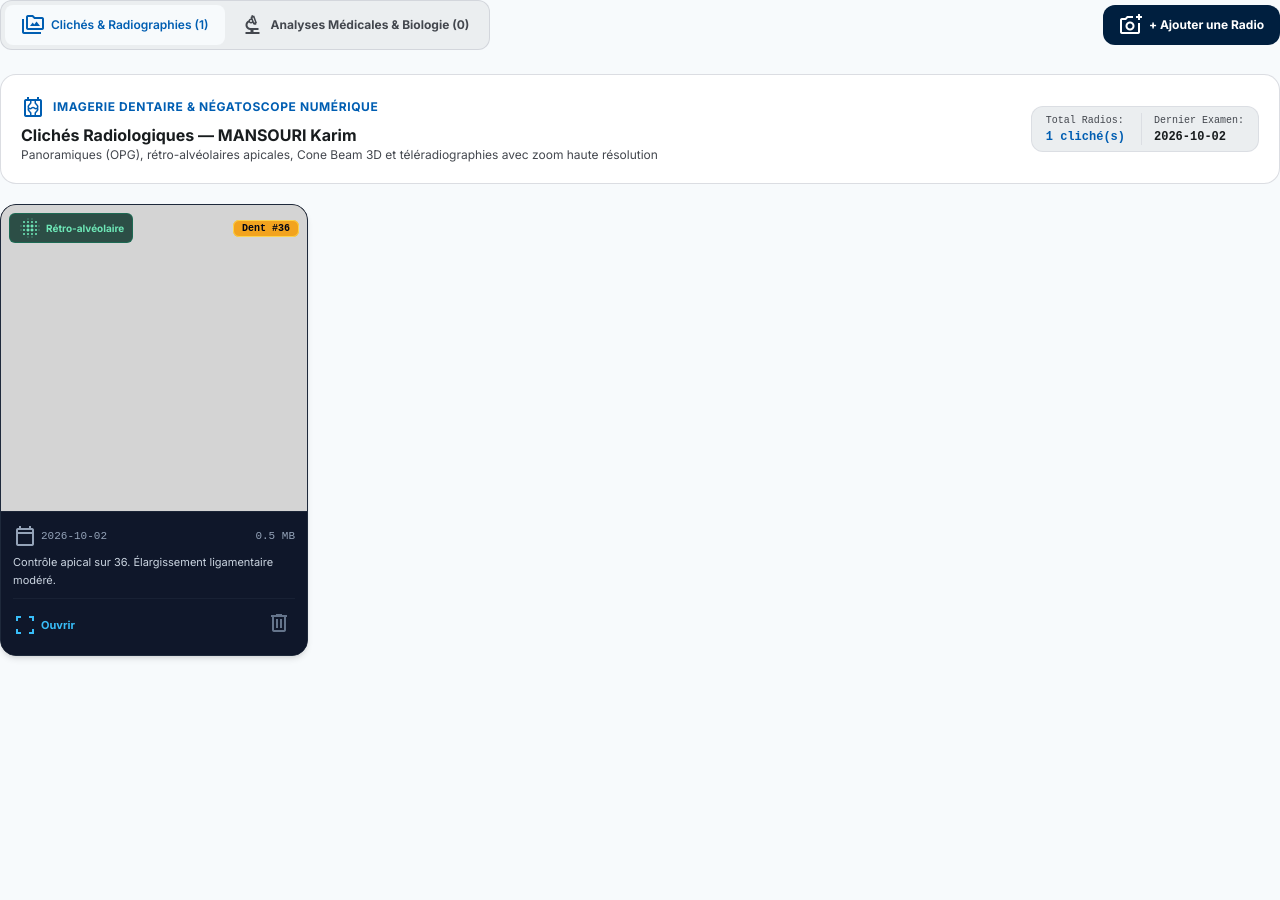
Test: Prompt 8: Devis Lifecycle [En Soin] Conversion & Dental Radiography Lightbox System › 3. Radiography Gallery & High-Resolution Lightbox Viewer › supports Zoom In, Zoom Out, and Reset Zoom in Lightbox
The width and height of the screenshot is (1280, 900).
Click the element showing "Rétro-alvéolaire Dent #36" at (154, 358), box 1,205 -> 307,511
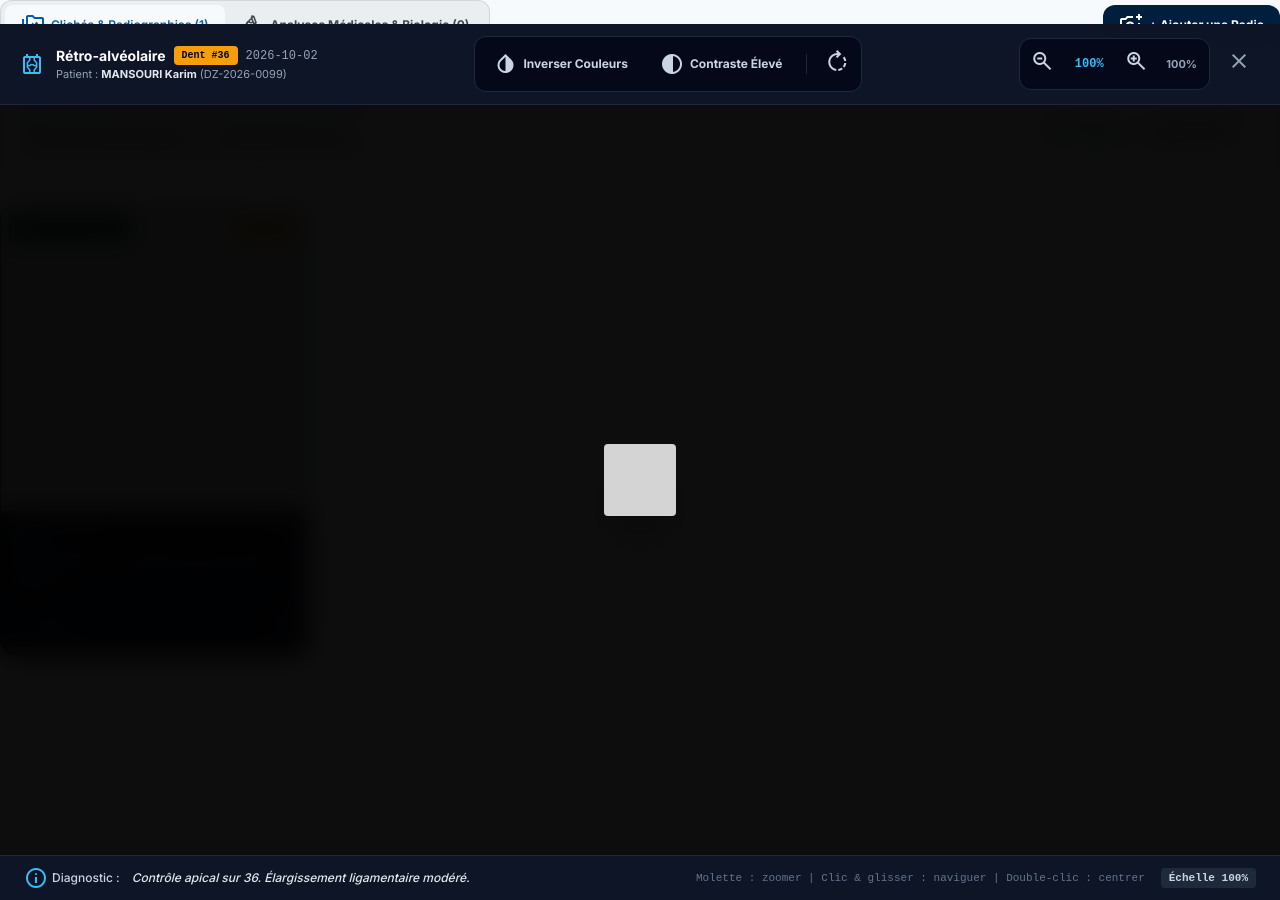
Now the text with test id "zoom-level-display" reads "100%", box 1075,57 -> 1104,71
 Zoom In
Click the button with test id "btn-zoom-in" at (1136, 64), box 1118,43 -> 1154,85
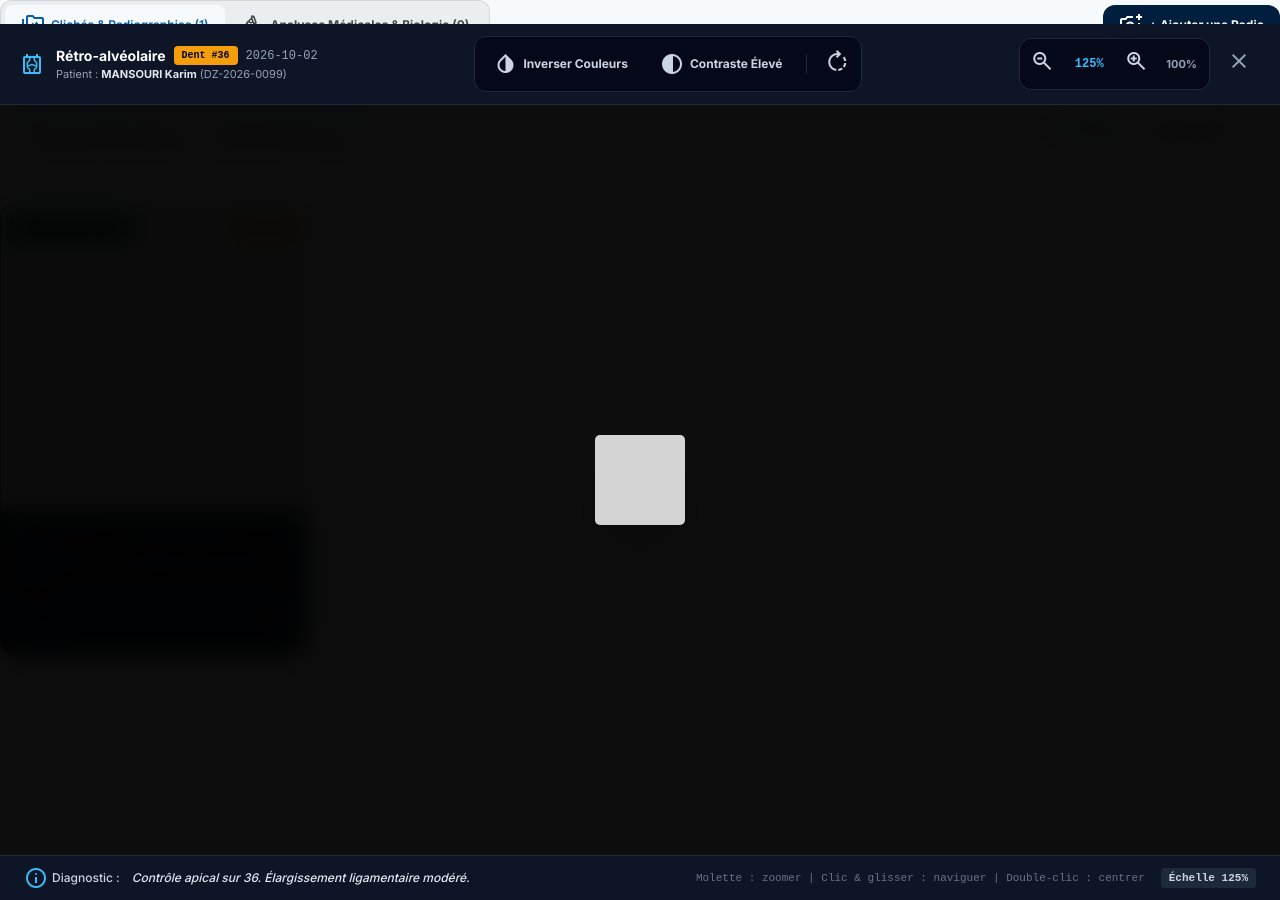
Now the text with test id "zoom-level-display" reads "125%", box 1075,57 -> 1104,71
Click the button with test id "btn-zoom-in" at (1136, 64), box 1118,43 -> 1154,85
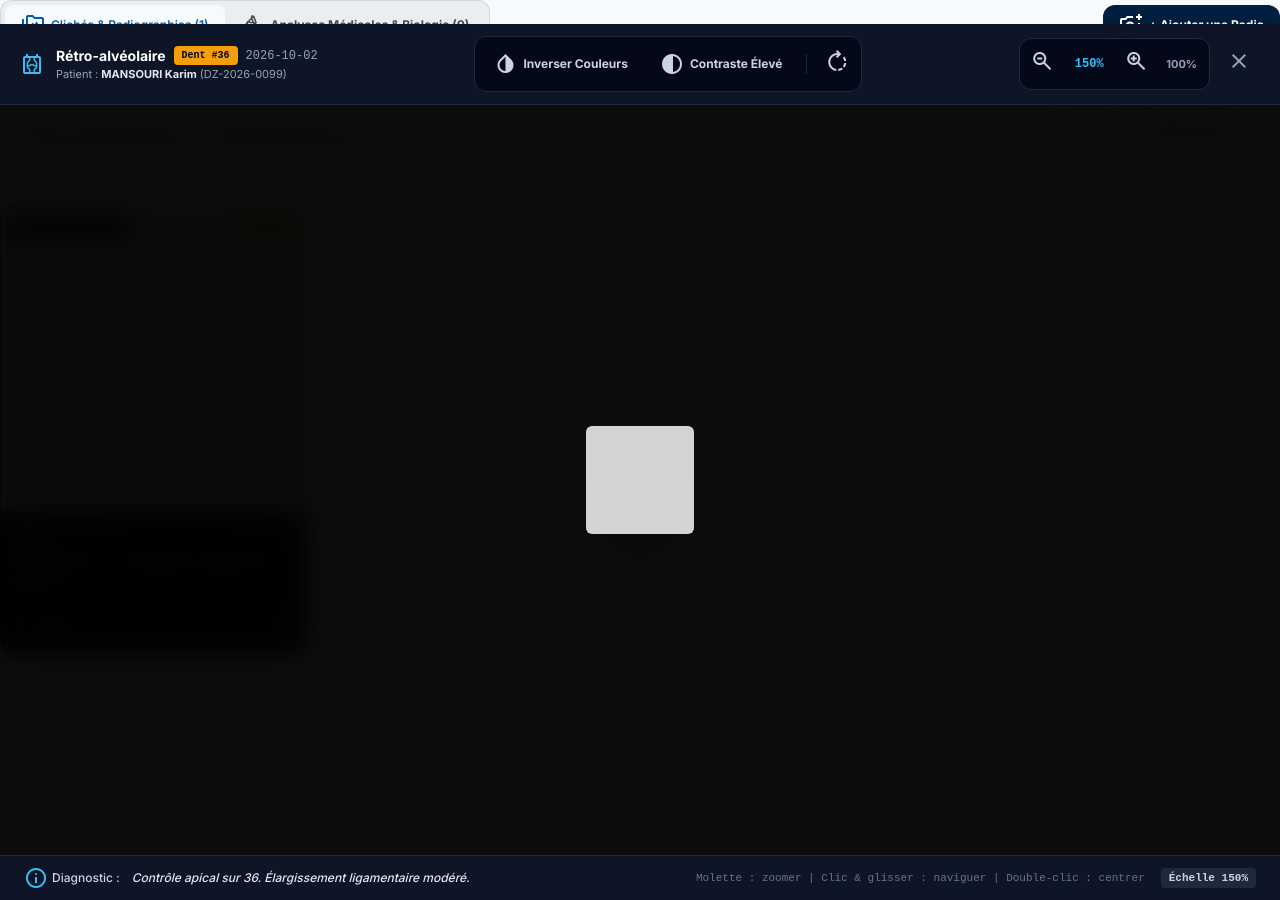
Now the text with test id "zoom-level-display" reads "150%", box 1075,57 -> 1104,71
Zoom Out
Click the button with test id "btn-zoom-out" at (1042, 64), box 1024,43 -> 1060,85
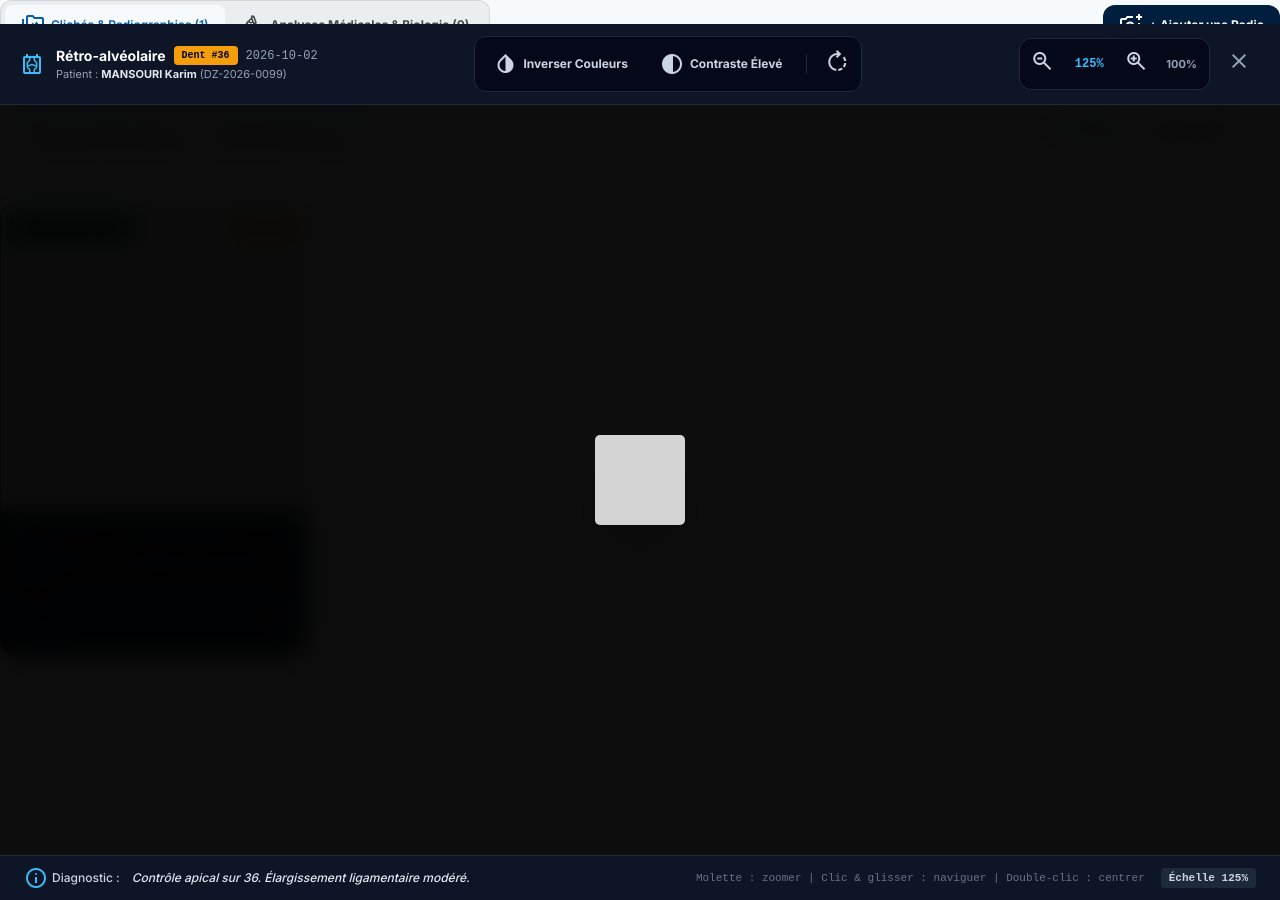
Now the text with test id "zoom-level-display" reads "125%", box 1075,57 -> 1104,71
Reset Zoom
Click the button with test id "btn-zoom-reset" at (1182, 64), box 1158,52 -> 1205,76
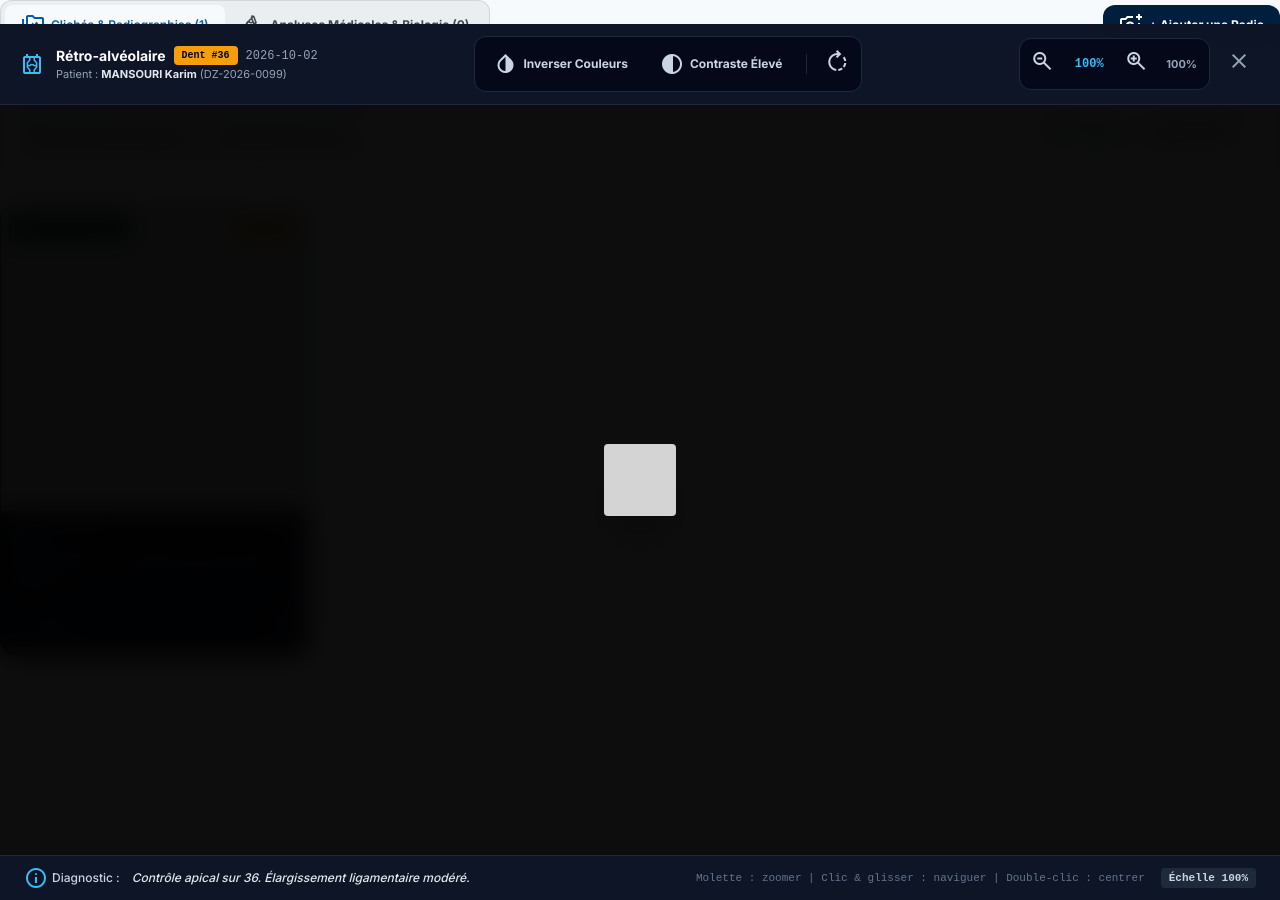
Now the text with test id "zoom-level-display" reads "100%", box 1075,57 -> 1104,71
